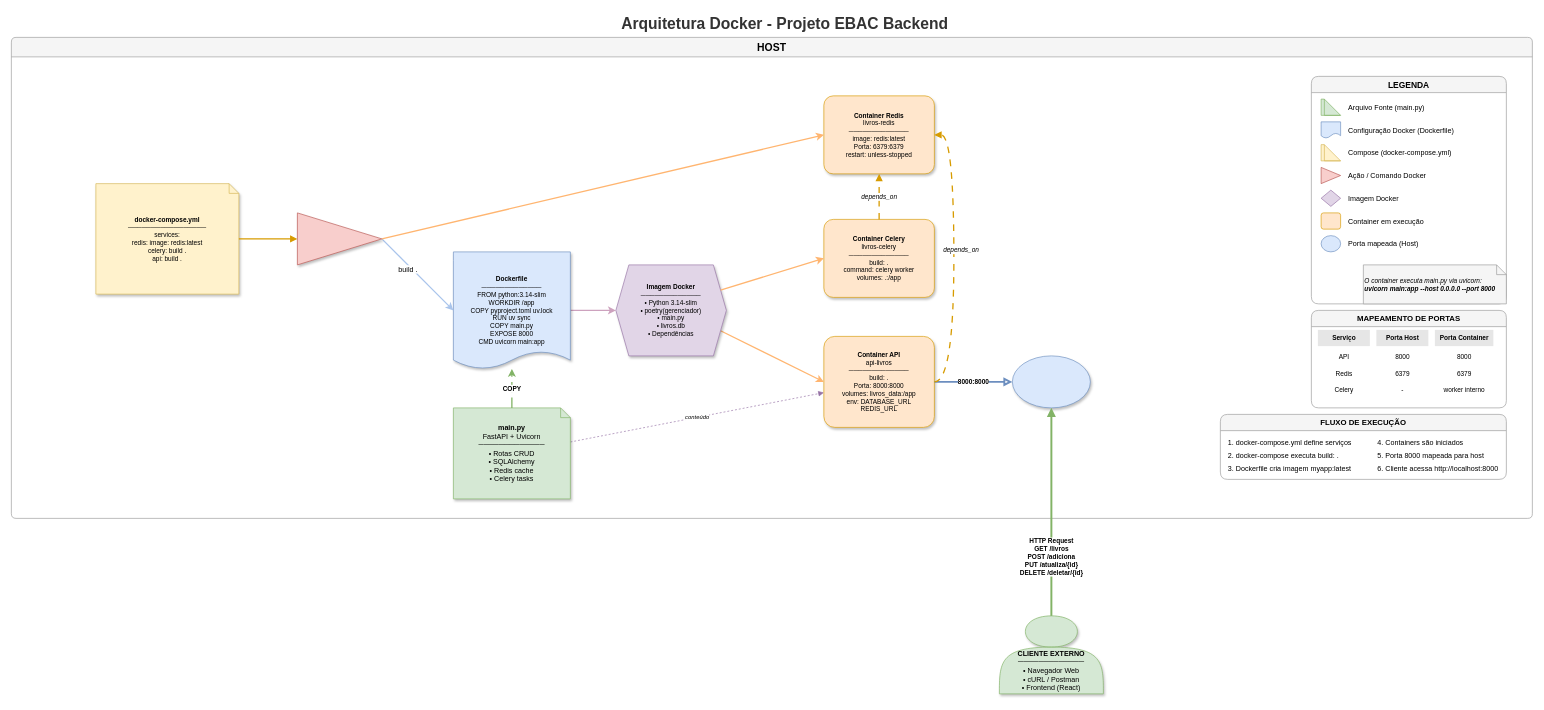
The diagram is 1544 pixels wide and 710 high, and some of its shapes have lost their labels. Here are the shapes that lost their labels. From the top down, the centre of each, then its label:
At point 340,239: "docker-compose up -d".
At point 1051,382: "Porta 8000 (Host)".
